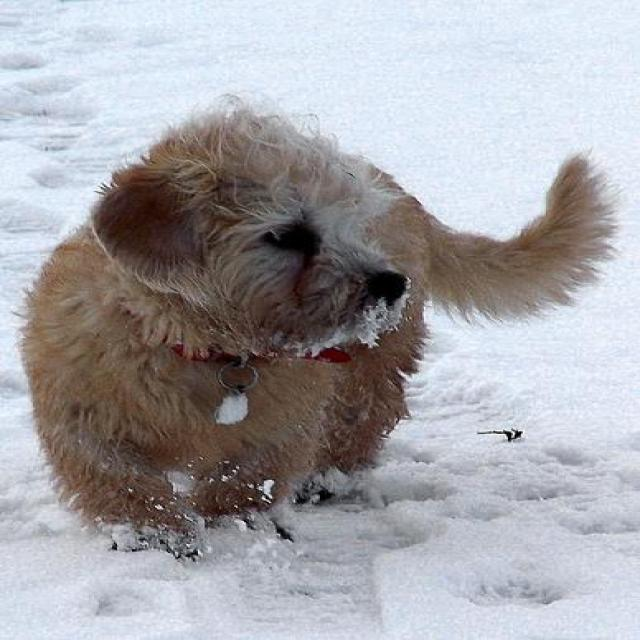dandie_dinmont: (12, 98, 612, 560)
